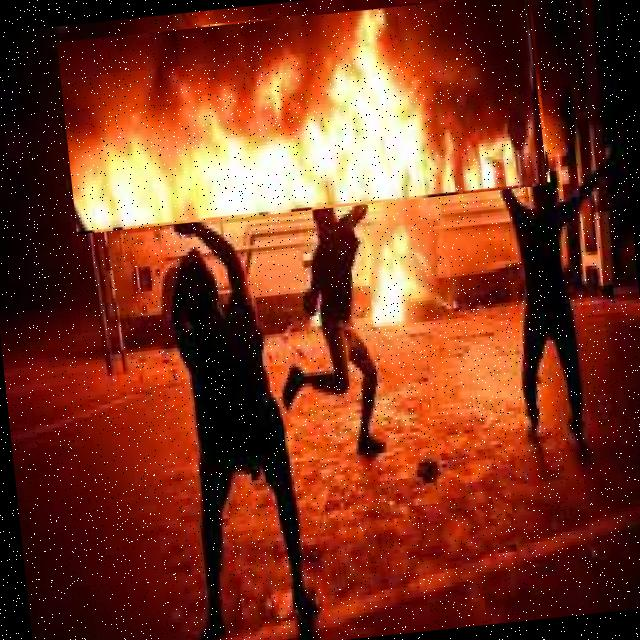fire: (56, 0, 547, 234), (362, 226, 441, 330)
